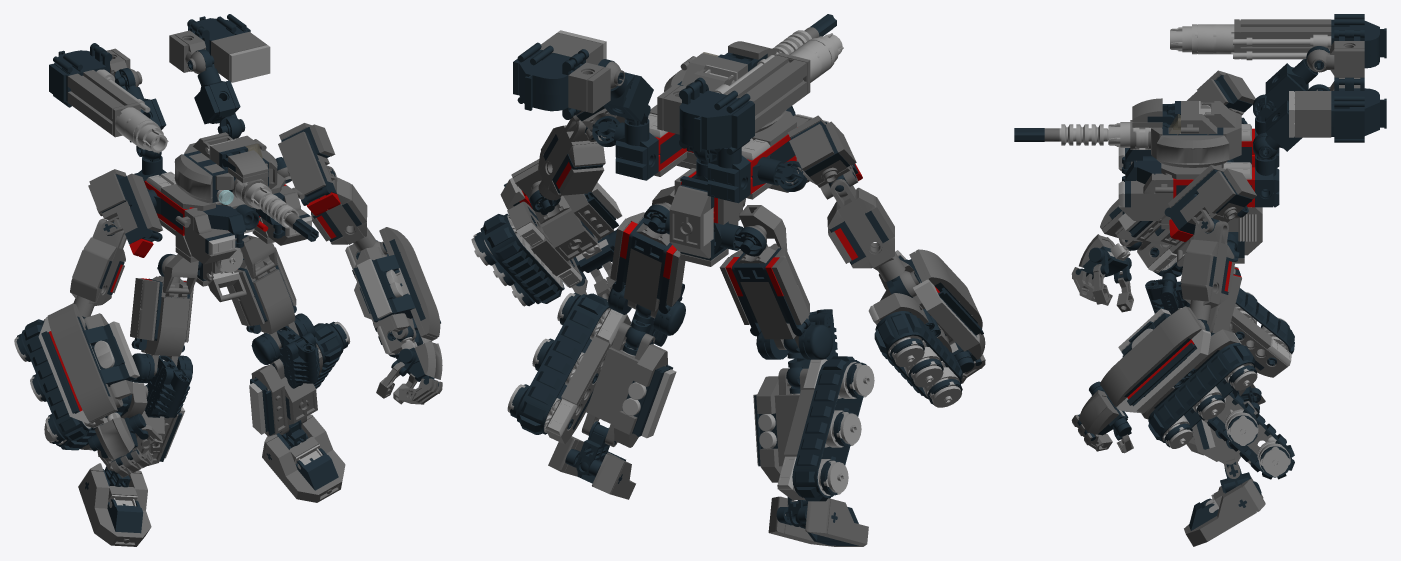
Rendered from th-nx-01-bushwacker-battle-frame.dae.
3 renders of one model, left to right at view 1: azimuth 30°, elevation 25°; view 2: azimuth 150°, elevation 25°; view 3: azimuth 270°, elevation 25°, orthographic. The views are drawn at different scales.
Size of the model in its own units: 586 by 492 by 645.
